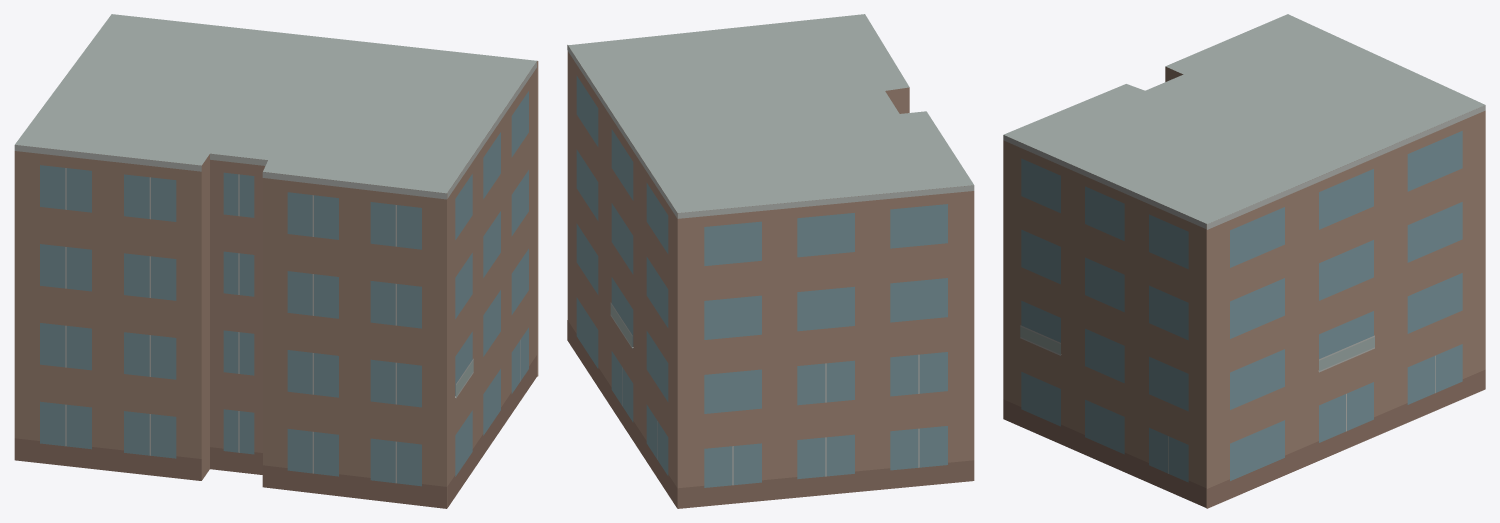
The model's file is survey-upis-32770735.glb.
3 views of the same model, side by side, from view 1: azimuth 30°, elevation 25°; view 2: azimuth 150°, elevation 25°; view 3: azimuth 270°, elevation 25° (orthographic). The views are drawn at different scales.
Visible parts, largest first — view 1: survey-upis-32770735.tmp; view 2: survey-upis-32770735.tmp; view 3: survey-upis-32770735.tmp.
Boxes of the visible parts, x1,y1,x2,y2 form: survey-upis-32770735.tmp: [14, 14, 538, 508]; survey-upis-32770735.tmp: [567, 14, 974, 508]; survey-upis-32770735.tmp: [1003, 14, 1485, 508].
Bounding box in the file's own units: 20.02 × 12.6 × 19.38.
